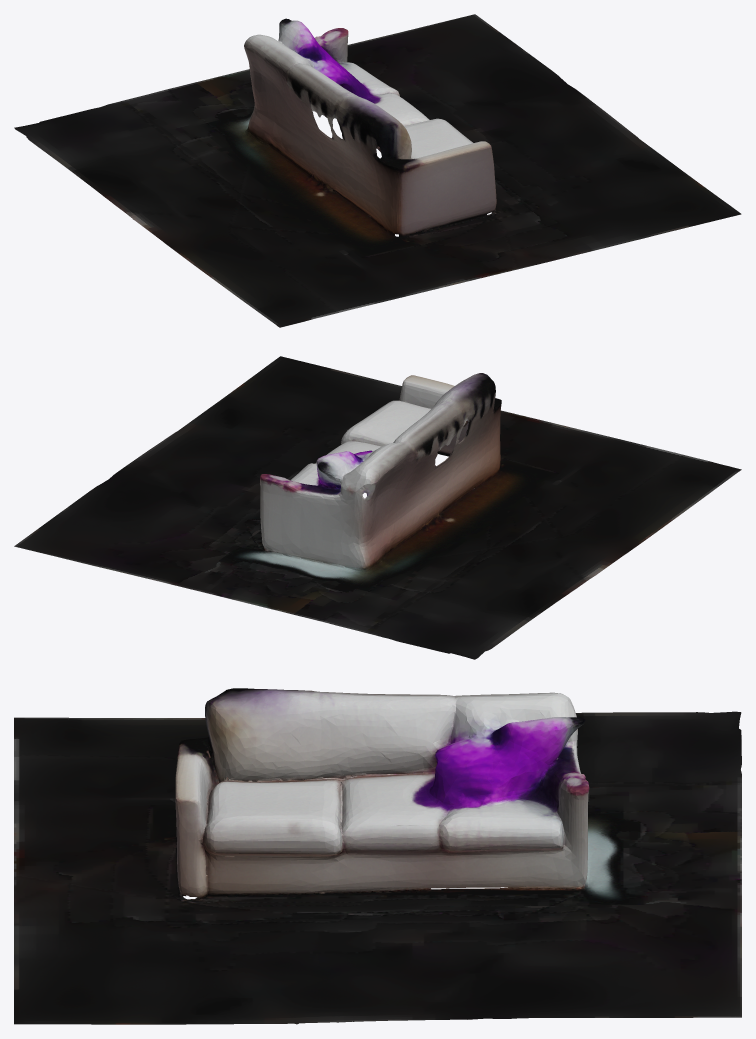
Rendered from trellis_result.glb.
3 views of the same model, one above another, from view 1: azimuth 30°, elevation 25°; view 2: azimuth 150°, elevation 25°; view 3: azimuth 270°, elevation 25° (orthographic). The views are drawn at different scales.
Visible parts, largest first — view 1: world; view 2: world; view 3: world.
Part boxes in pixels (bbox=[...]): world: bbox=[14, 14, 741, 327]; world: bbox=[14, 356, 741, 659]; world: bbox=[14, 688, 741, 1024].
Size of the model in its own units: 1 by 0.2257 by 1.
Materials: 1 (1 with a texture image).
